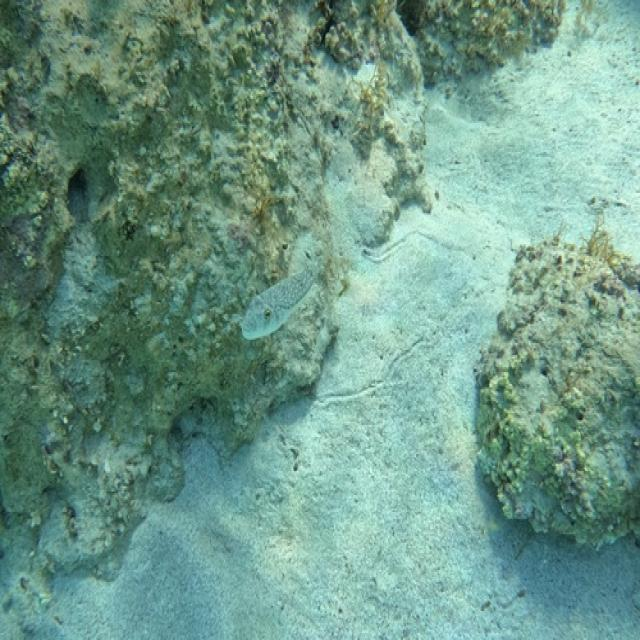Balik: (241, 268, 314, 339)
